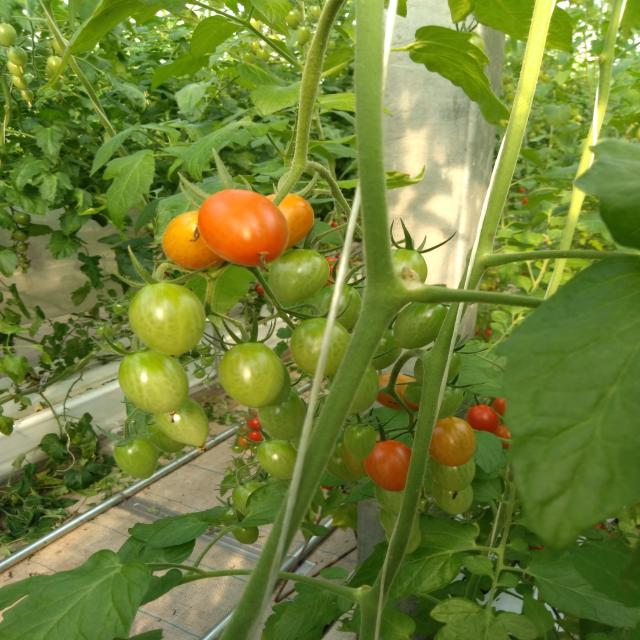c-half-riped: (197, 188, 289, 268), (162, 210, 226, 270), (264, 192, 314, 250), (364, 440, 412, 492), (428, 416, 475, 467), (375, 373, 419, 411)
c-riped: (467, 404, 499, 432)
c-unriped: (128, 282, 206, 356), (118, 347, 188, 414), (218, 342, 284, 409), (291, 316, 352, 376), (266, 248, 331, 302), (153, 395, 208, 447), (328, 359, 379, 415), (392, 302, 448, 349), (309, 284, 362, 330), (257, 390, 305, 440), (412, 345, 462, 386), (114, 435, 158, 480), (256, 438, 296, 480), (428, 456, 474, 492), (370, 327, 404, 371), (146, 416, 187, 452), (326, 441, 361, 482), (432, 481, 473, 514), (391, 248, 427, 284), (343, 422, 376, 460), (378, 507, 419, 537), (265, 364, 292, 406), (232, 479, 262, 516), (384, 528, 422, 554), (438, 383, 464, 419), (342, 441, 368, 476), (374, 484, 404, 514), (222, 505, 247, 531), (232, 520, 258, 544), (404, 381, 424, 405)
